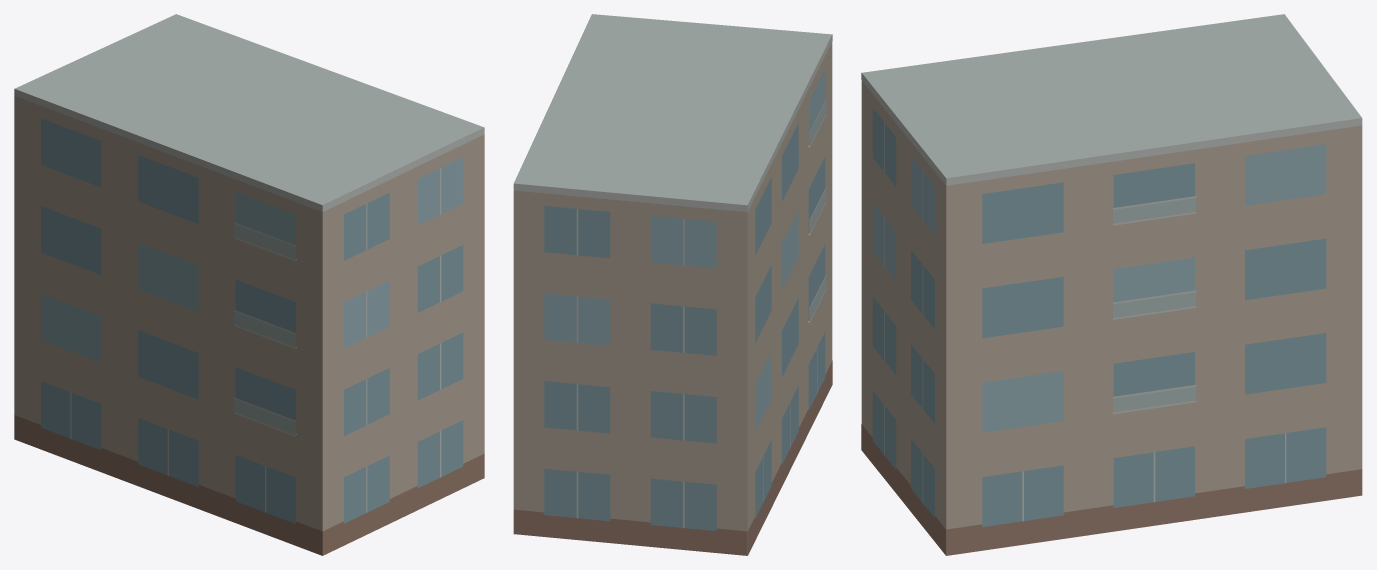
Rendered from survey-upis-32748979.glb.
3 renders of one model, left to right at view 1: azimuth 30°, elevation 25°; view 2: azimuth 150°, elevation 25°; view 3: azimuth 270°, elevation 25°, orthographic. The views are drawn at different scales.
Visible parts, largest first — view 1: survey-upis-32748979.tmp; view 2: survey-upis-32748979.tmp; view 3: survey-upis-32748979.tmp.
Boxes of the visible parts, bbox=[...] form: survey-upis-32748979.tmp: bbox=[14, 14, 484, 555]; survey-upis-32748979.tmp: bbox=[513, 14, 832, 555]; survey-upis-32748979.tmp: bbox=[861, 14, 1362, 555].
Bounding box in the file's own units: 11.59 × 12.4 × 14.92.
